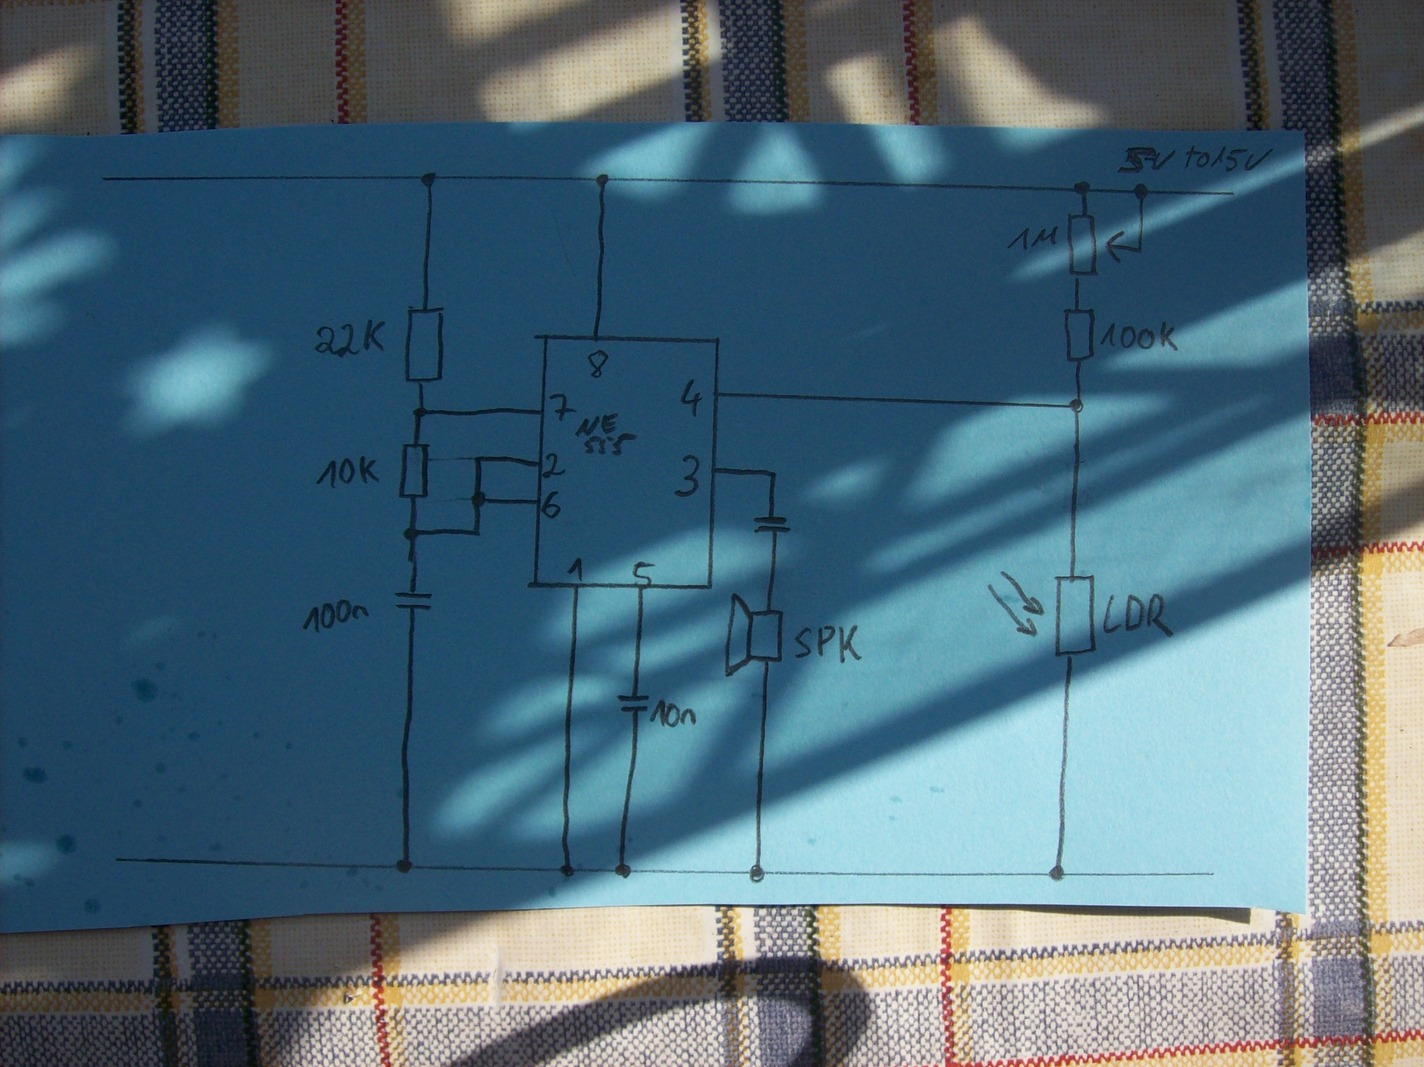capacitor.unpolarized: (392, 588, 435, 614), (751, 513, 793, 537), (615, 692, 651, 715)
integrated_cricuit.ne555: (525, 330, 722, 593)
junction: (746, 863, 769, 885), (1070, 178, 1093, 200), (394, 855, 417, 876), (612, 861, 634, 882), (1046, 863, 1070, 883), (1130, 180, 1151, 203), (418, 169, 439, 189), (557, 863, 580, 881), (592, 169, 612, 189), (401, 525, 424, 542), (1068, 395, 1086, 416), (469, 490, 488, 509), (411, 405, 431, 421), (472, 452, 487, 467), (471, 525, 484, 541), (765, 466, 780, 481)
resistor: (400, 303, 448, 386), (394, 438, 432, 502), (1062, 305, 1098, 365)
resistor.adjustable: (1065, 211, 1147, 282)
resistor.photo: (984, 568, 1098, 660)
speaker: (722, 590, 785, 679)
terminal: (1201, 866, 1221, 881), (1228, 185, 1241, 201), (110, 854, 127, 866), (96, 173, 113, 185)
text: (1115, 143, 1276, 176), (1101, 592, 1178, 640), (313, 317, 388, 360), (573, 411, 639, 458), (792, 623, 865, 665), (314, 451, 382, 493), (1098, 321, 1181, 355), (301, 599, 371, 635), (1006, 224, 1059, 253), (649, 698, 698, 729), (673, 453, 701, 499), (678, 378, 704, 419), (548, 391, 576, 423), (586, 347, 609, 381), (540, 451, 567, 480), (631, 560, 657, 591), (541, 488, 564, 521), (565, 556, 587, 582)
